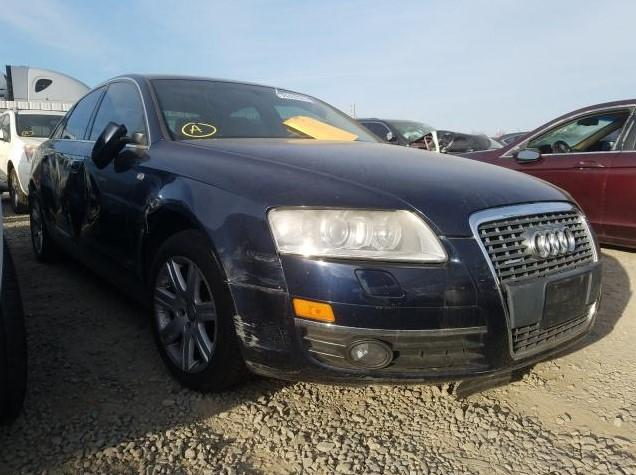Back-door: (32, 83, 107, 235)
Back-wheel: (29, 192, 64, 265)
Back-window: (61, 86, 107, 139), (52, 113, 69, 138)
Fender: (136, 167, 286, 293)
Front-bumper: (225, 236, 594, 384)
Front-door: (66, 80, 151, 277)
Front-wheel: (146, 227, 244, 394)
Front-window: (89, 82, 149, 146)
Grille: (473, 207, 598, 356)
Headlight: (267, 209, 447, 264)
Hood: (140, 138, 586, 235)
License-plate: (505, 264, 600, 328)
Mirror: (92, 120, 147, 170)
Rocker-panel: (46, 220, 146, 309)
Roof: (101, 75, 279, 88)
Windshield: (151, 80, 386, 142)
